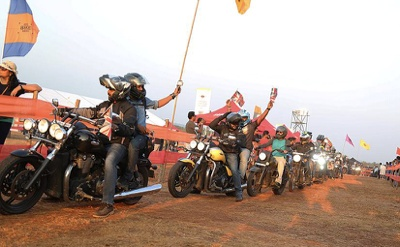helmet: (98, 73, 131, 103)
